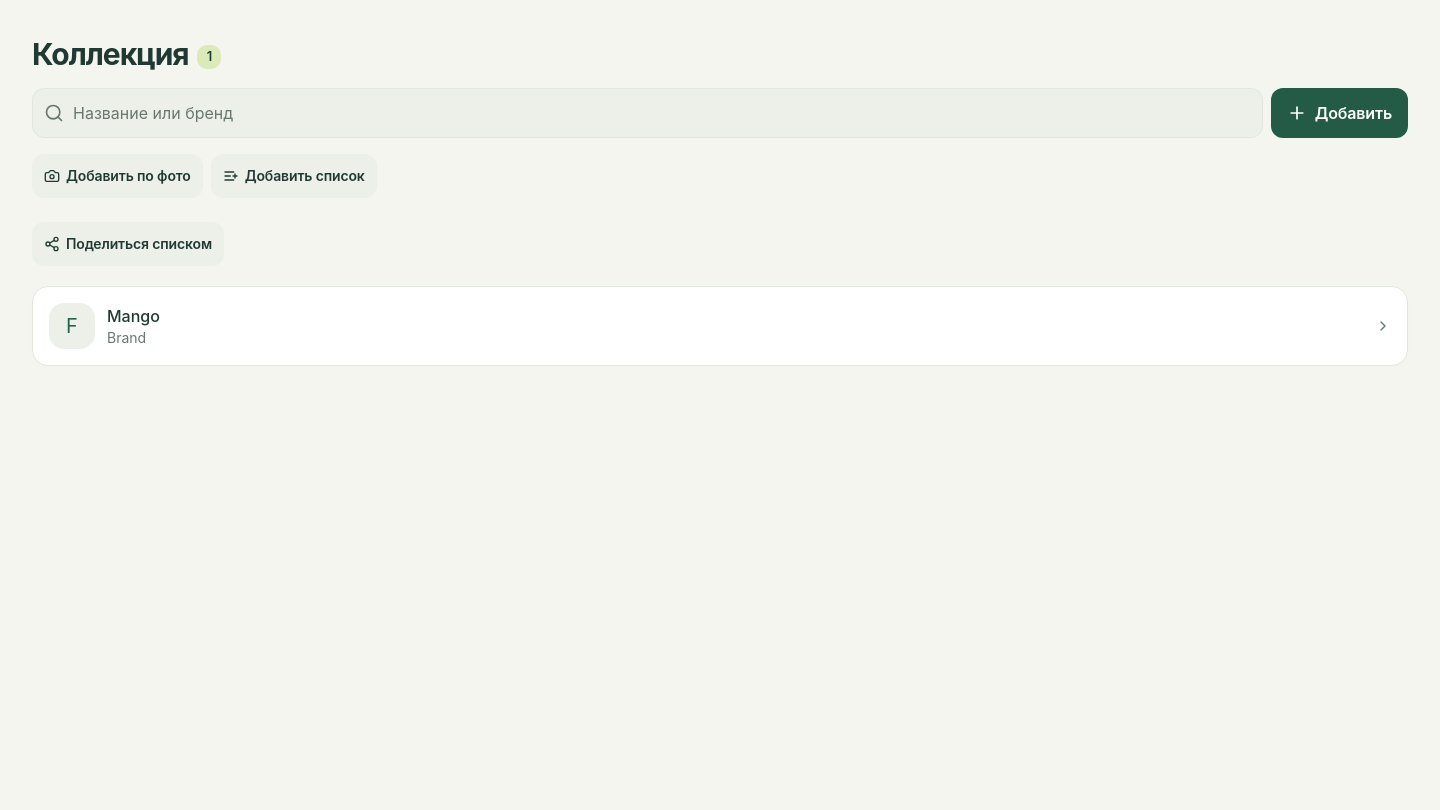
edits a tobacco and sends explicit null to clear optional fields
This screenshot has width=1440, height=810.
Step 1. Click the text "Mango" → (133, 316), box x1=107 y1=306 x2=160 y2=326
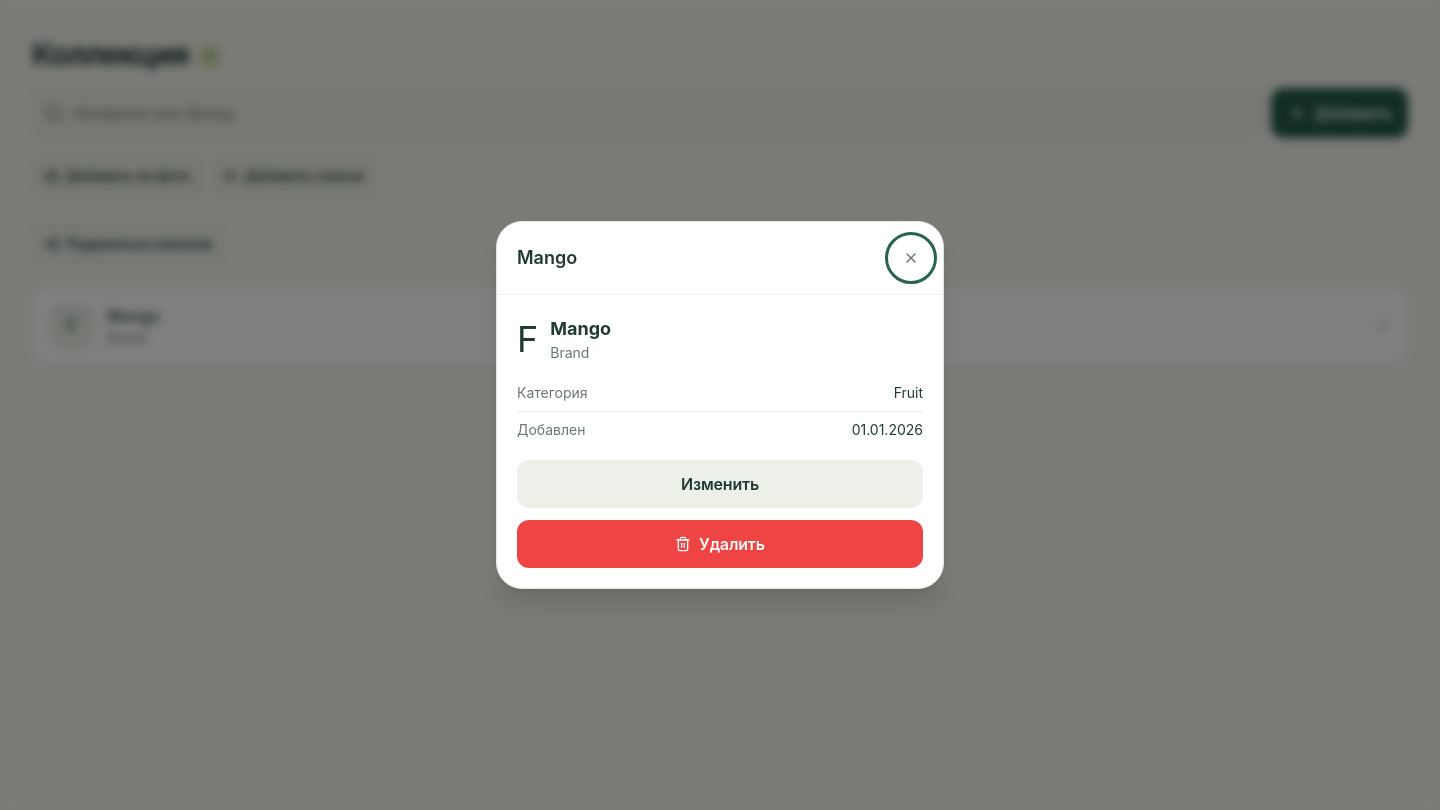
Step 2. Click the button "Изменить" → (720, 484), box x1=517 y1=460 x2=923 y2=508
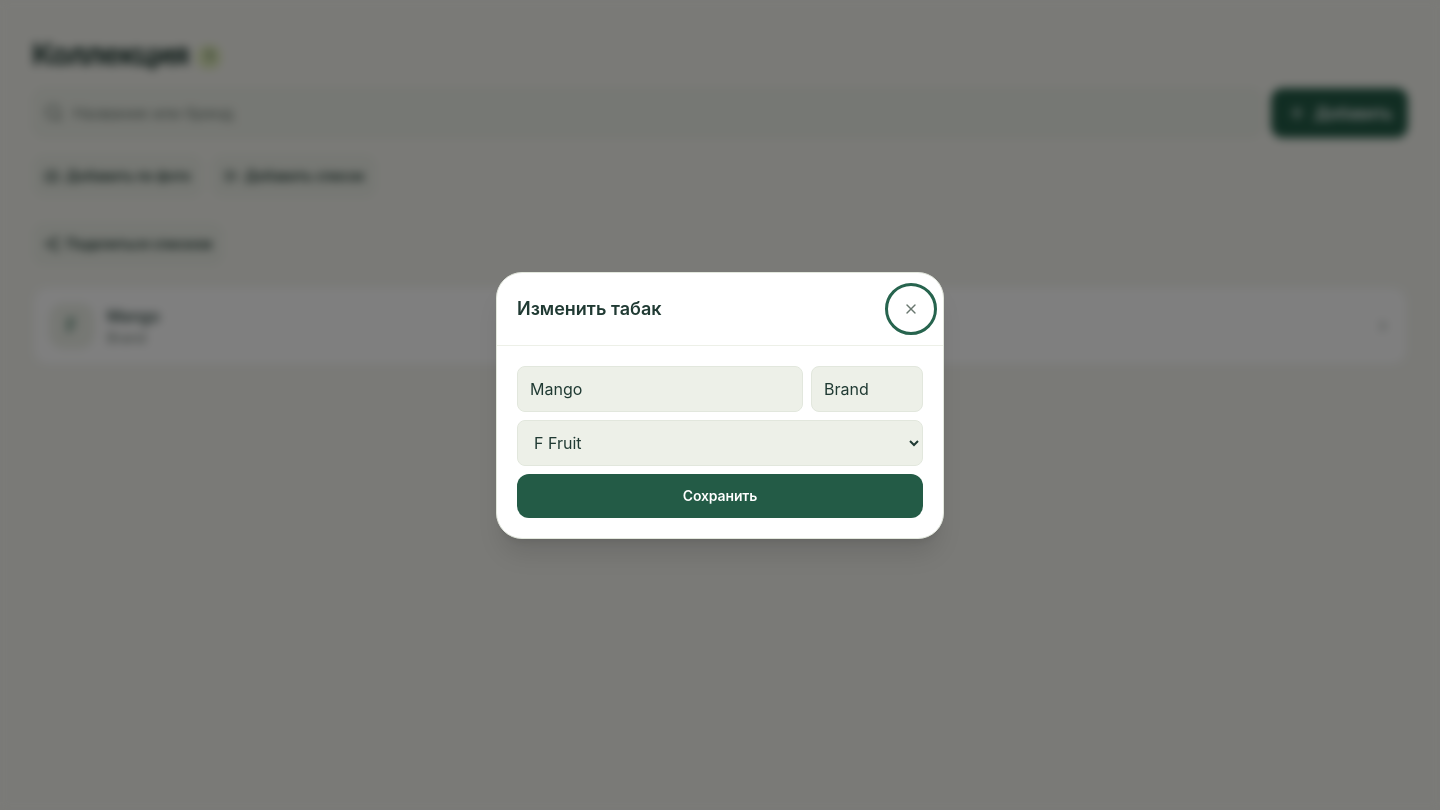
Step 3. Replace the text in the field named "Название" with "Mint" → (660, 388), box x1=517 y1=366 x2=803 y2=412
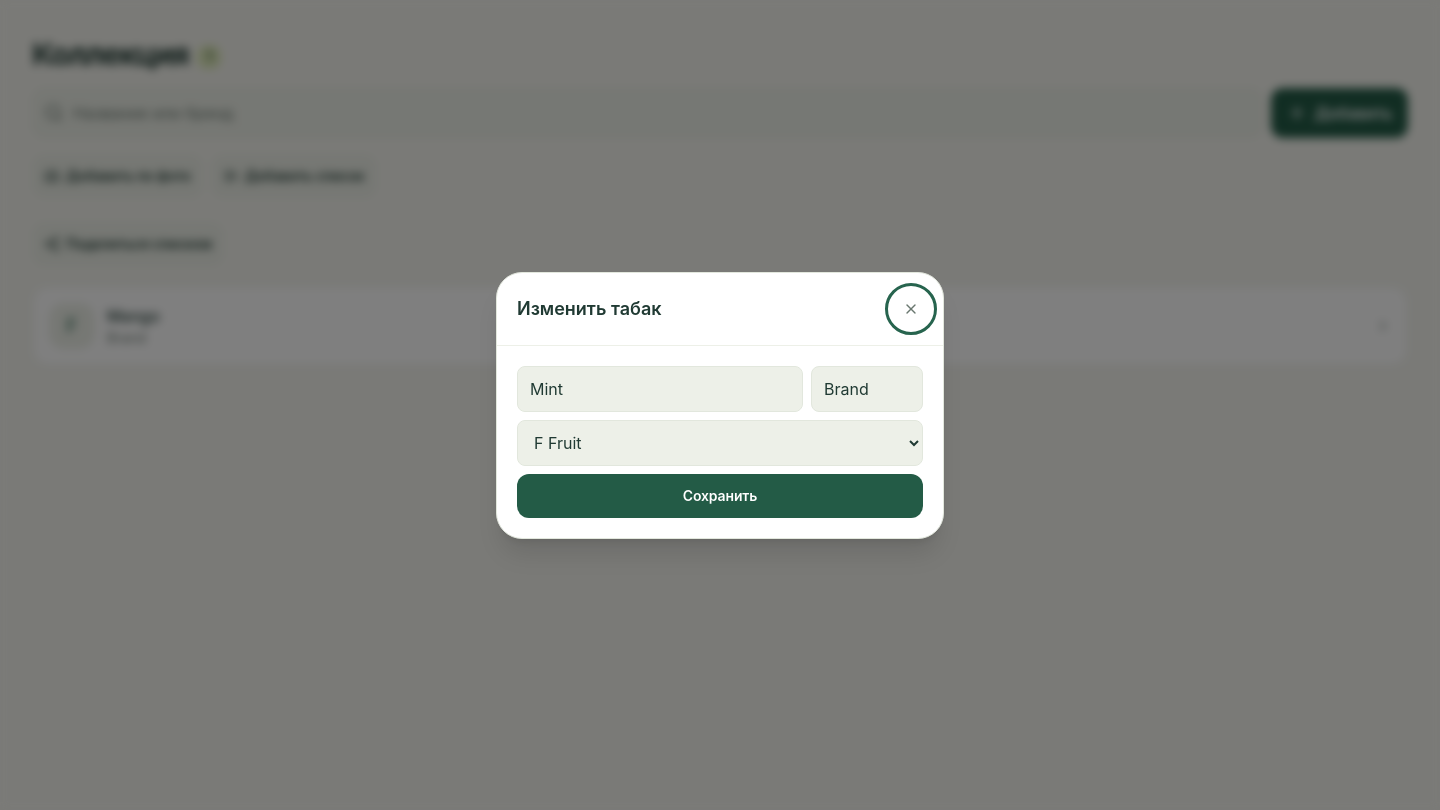
Step 4. Clear the field named "Бренд" → (867, 388), box x1=811 y1=366 x2=923 y2=412
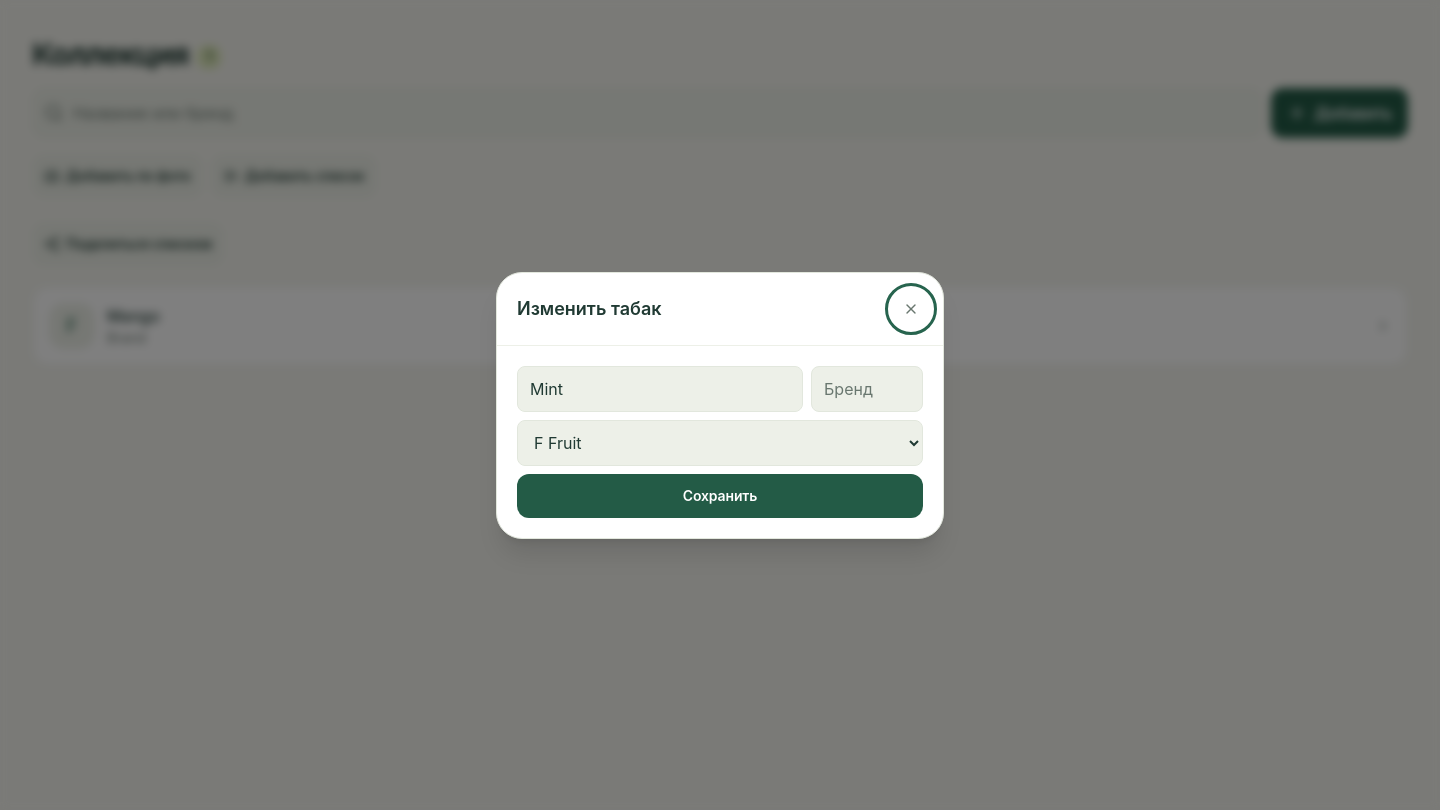
Step 5. Select "Без категории" in the dropdown named "Категория" → (720, 442), box x1=517 y1=420 x2=923 y2=466
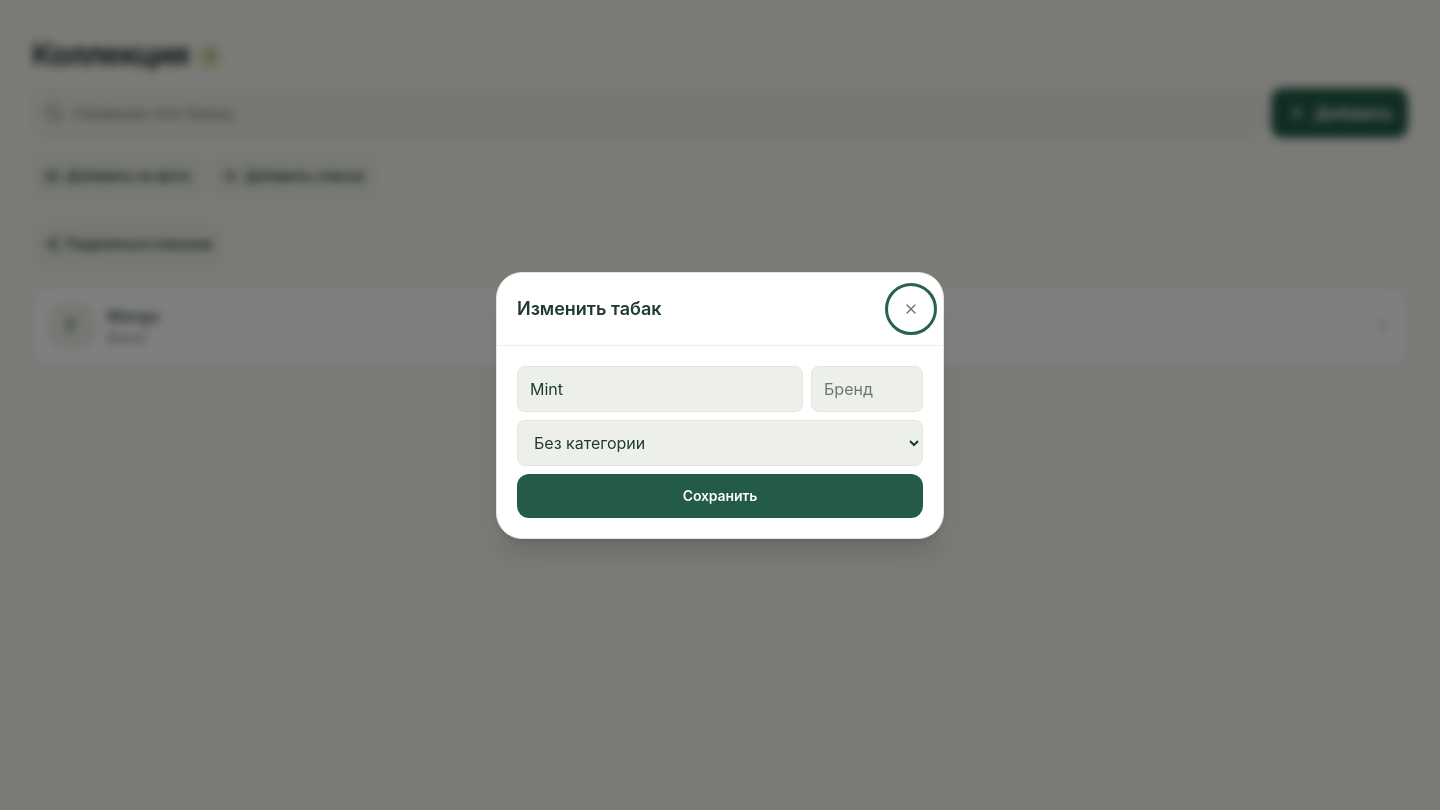
Step 6. Click the button "Сохранить" → (720, 496), box x1=517 y1=474 x2=923 y2=518
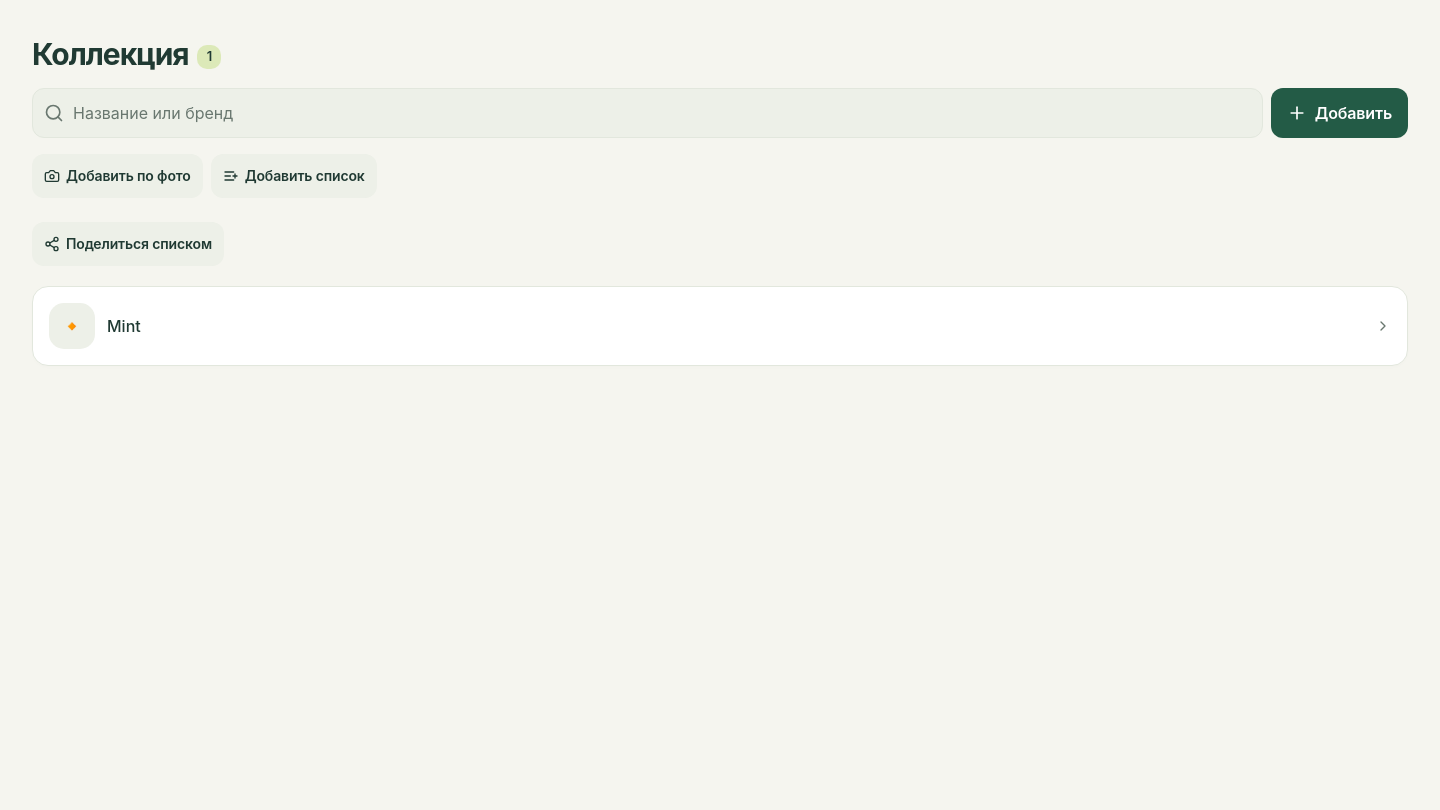
Expected: the text "Mint" is shown, x1=107 y1=316 x2=141 y2=336
